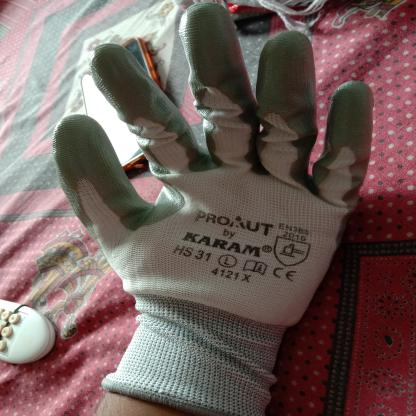gloved_hand: (45, 0, 379, 415)
